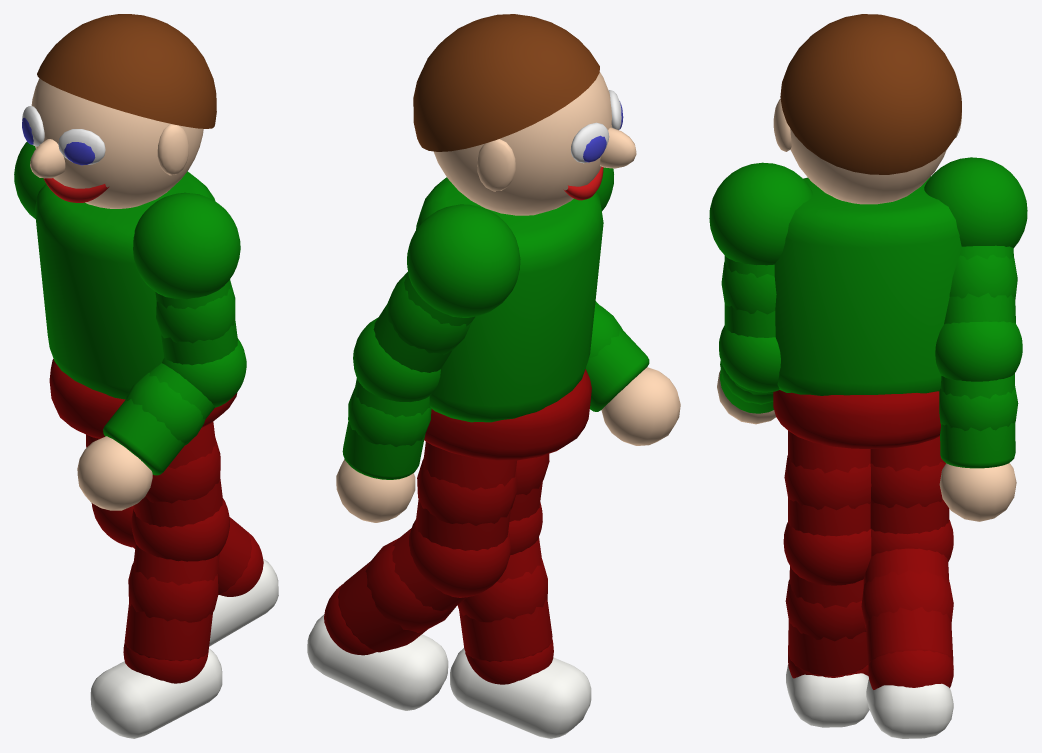
The picture shows the model from 3 angles, left to right: view 1: azimuth 30°, elevation 25°; view 2: azimuth 150°, elevation 25°; view 3: azimuth 270°, elevation 25°; orthographic projection. The views are drawn at different scales.
Visible parts, largest first — view 1: torso, hair, head, shoulder_ball_n, shoe_n, shin_n, farm_n, hand_n, knee_ball_n, shin_bulge_n, pelvis, thigh_n (+17 smaller); view 2: torso, hair, head, shoulder_ball_f, shoe_n, shoe_f, pelvis, thigh_f, shin_f, shin_n, hand_n, knee_ball_f (+19 smaller); view 3: torso, hair, pelvis, shoulder_ball_n, shoulder_ball_f, shin_f, elbow_ball_f, shin_n, thigh_n, farm_f, head, knee_ball_n (+20 smaller).
Part boxes in pixels (bbox=[...]): torso: bbox=[35, 171, 215, 399]; hair: bbox=[37, 14, 216, 128]; head: bbox=[31, 78, 203, 208]; shoulder_ball_n: bbox=[133, 192, 240, 299]; shoe_n: bbox=[90, 648, 222, 738]; shin_n: bbox=[124, 544, 219, 661]; farm_n: bbox=[103, 363, 214, 475]; hand_n: bbox=[77, 436, 152, 510]; knee_ball_n: bbox=[131, 498, 229, 561]; shin_bulge_n: bbox=[128, 562, 218, 622]; pelvis: bbox=[49, 359, 237, 438]; thigh_n: bbox=[133, 422, 222, 527]; torso: bbox=[416, 177, 603, 422]; hair: bbox=[413, 14, 599, 151]; head: bbox=[433, 72, 611, 215]; shoulder_ball_f: bbox=[407, 204, 520, 317]; shoe_n: bbox=[450, 648, 591, 738]; shoe_f: bbox=[307, 614, 448, 710]; pelvis: bbox=[424, 369, 591, 460]; thigh_f: bbox=[415, 441, 517, 550]; shin_f: bbox=[338, 528, 466, 652]; shin_n: bbox=[459, 537, 552, 661]; hand_n: bbox=[601, 367, 680, 445]; knee_ball_f: bbox=[408, 519, 510, 597]; torso: bbox=[774, 176, 961, 395]; hair: bbox=[780, 14, 961, 174]; pelvis: bbox=[773, 390, 940, 448]; shoulder_ball_n: bbox=[709, 162, 812, 265]; shoulder_ball_f: bbox=[924, 157, 1027, 248]; shin_f: bbox=[863, 548, 953, 665]; elbow_ball_f: bbox=[935, 321, 1022, 381]; shin_n: bbox=[788, 566, 867, 676]; thigh_n: bbox=[788, 431, 870, 536]; farm_f: bbox=[940, 373, 1015, 468]; head: bbox=[790, 129, 946, 204]; knee_ball_n: bbox=[783, 522, 871, 585].
Size of the model in its own units: 0.6225 by 1.5 by 0.6249.
